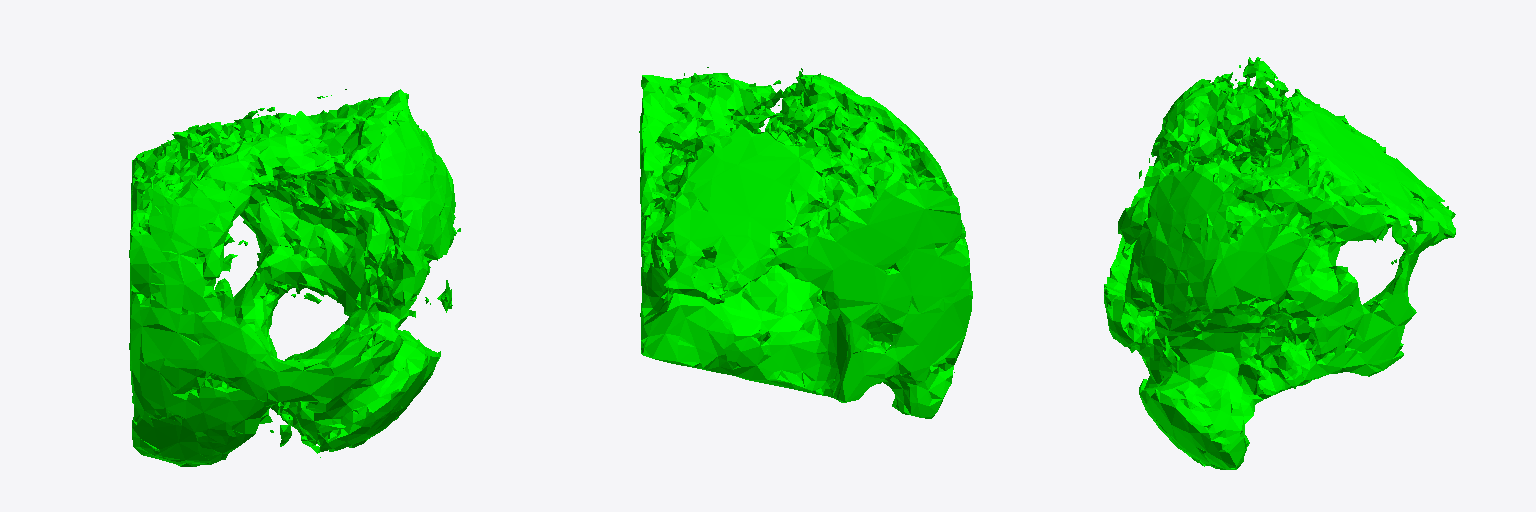
File: B939XXXX-1_base_20.obj
The picture shows the model from 3 angles: view 1: azimuth 30°, elevation 25°; view 2: azimuth 150°, elevation 25°; view 3: azimuth 270°, elevation 25°; orthographic projection.
Visible parts, largest first — view 1: 20_base; view 2: 20_base; view 3: 20_base.
Boxes of the visible parts, x1,y1,x2,y2 form: 20_base: [129, 89, 460, 466]; 20_base: [639, 67, 972, 418]; 20_base: [1104, 57, 1455, 469].
Bounding box in the file's own units: 219 × 214 × 202.